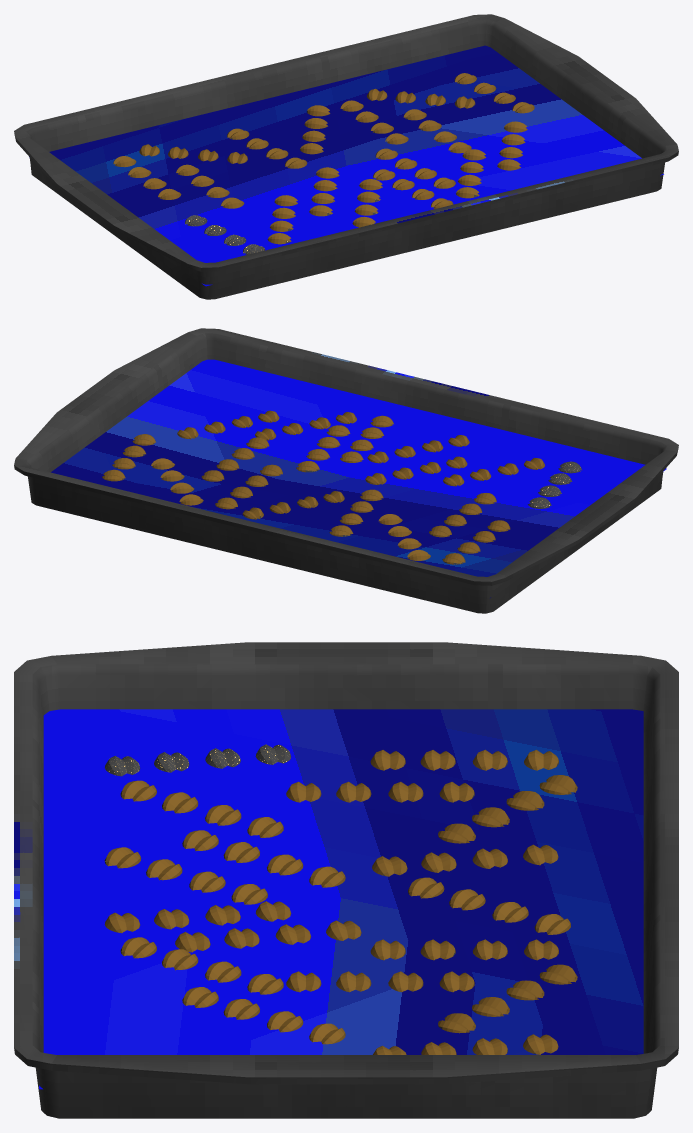
File: germinatingmalt.fbx
3 renders of one model, top to bottom at view 1: azimuth 30°, elevation 25°; view 2: azimuth 150°, elevation 25°; view 3: azimuth 270°, elevation 25°, orthographic. The views are drawn at different scales.
Parts seen in each view (by area): view 1: Об'єкт; view 2: Об'єкт; view 3: Об'єкт.
Part boxes in pixels (bbox=[...]): Об'єкт: bbox=[14, 14, 678, 299]; Об'єкт: bbox=[14, 328, 678, 613]; Об'єкт: bbox=[14, 642, 678, 1118].
Size of the model in its own units: 0.5123 by 0.0365 by 0.3309.
